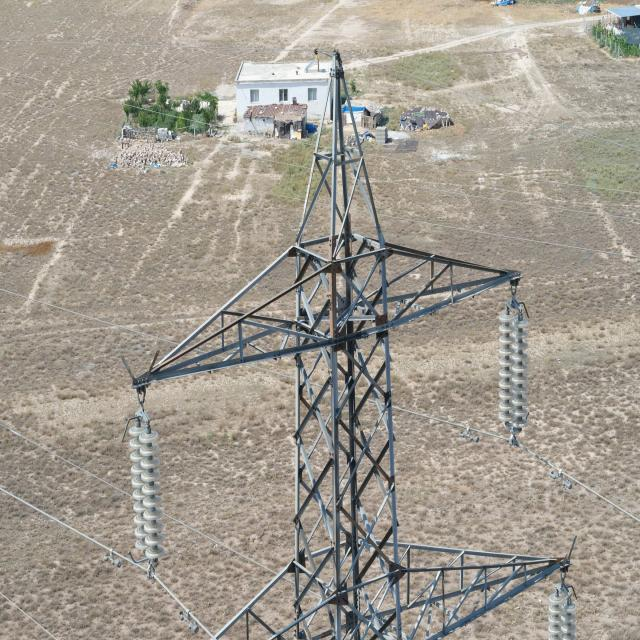direk: (291, 76, 408, 640)
